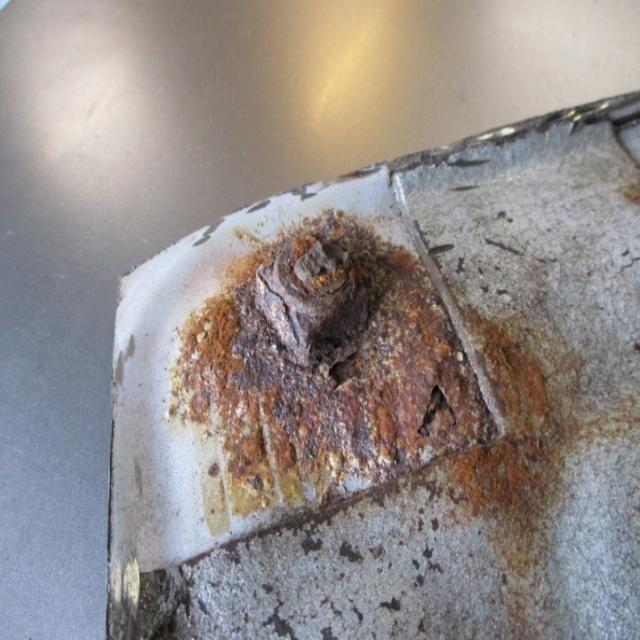corrosion: (193, 213, 561, 511)
